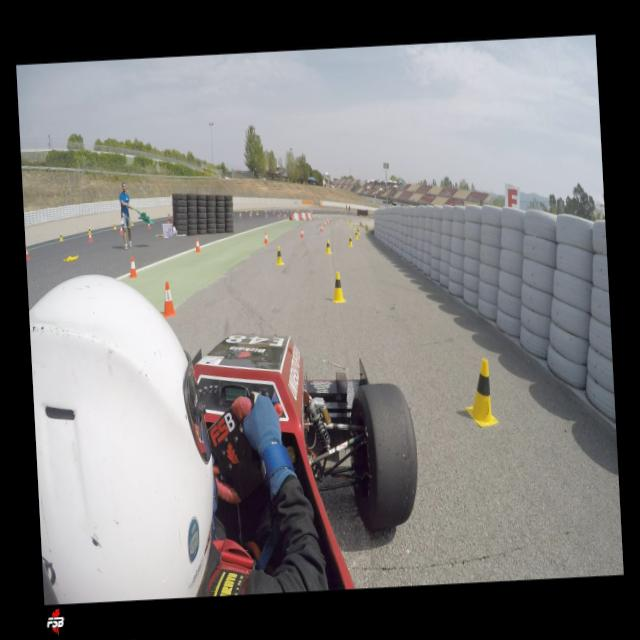orange_cone: (160, 280, 177, 318), (128, 256, 138, 278), (195, 238, 201, 253), (26, 247, 30, 260), (264, 232, 268, 244), (300, 228, 304, 238), (89, 232, 92, 242), (120, 227, 122, 235), (320, 225, 322, 232), (148, 223, 150, 230), (324, 221, 326, 227), (266, 213, 268, 218), (250, 214, 252, 218)
yellow_cone: (462, 357, 499, 428), (330, 271, 347, 303), (274, 246, 284, 265), (324, 239, 332, 254), (348, 235, 353, 248), (354, 230, 358, 240), (59, 234, 63, 242), (130, 220, 134, 227), (88, 227, 91, 235), (114, 222, 116, 230), (349, 222, 352, 227), (358, 228, 360, 235), (353, 223, 355, 230)
